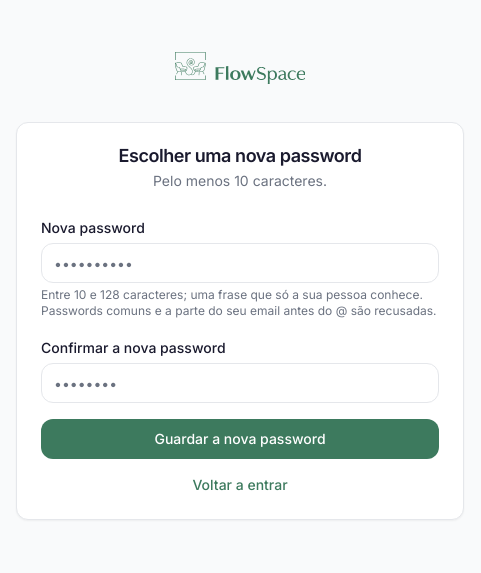
Test: Reset password page › any other failure keeps the form and reports it
In the password field labelled "Nova password": (240, 263) [41,243,439,283], type "novapass123"
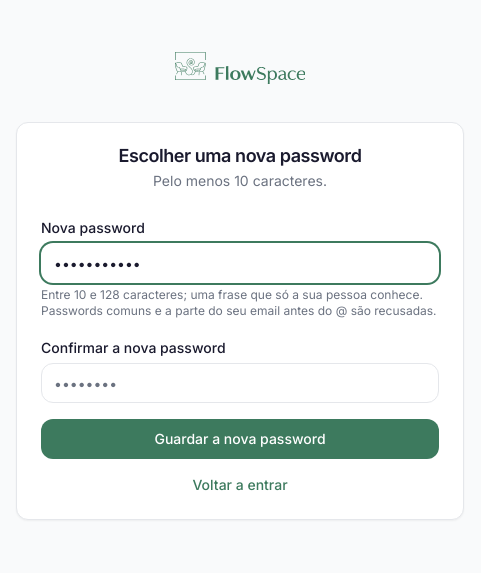
In the password field labelled "Confirmar a nova password": (240, 383) [41,363,439,403], type "novapass123"
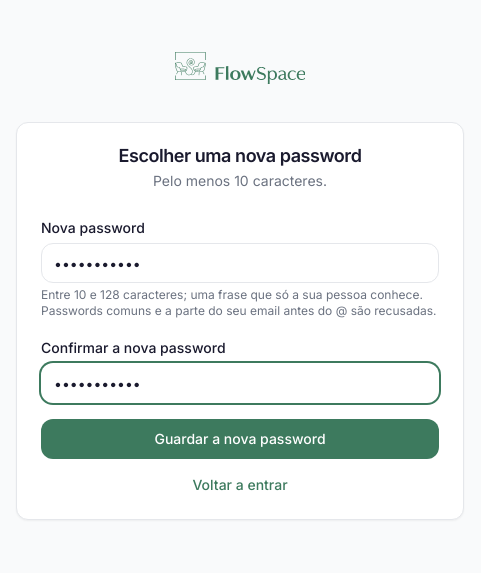
Click the button "Guardar a nova password": (240, 439) [41,419,439,459]
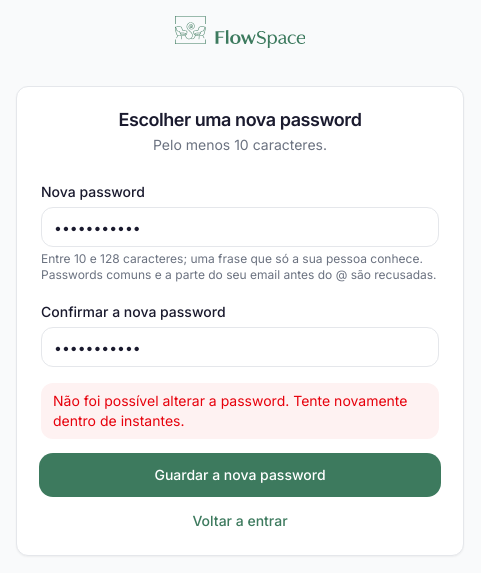
Check: the message shows "Não foi possível alterar a password", box [53,392,408,429]
